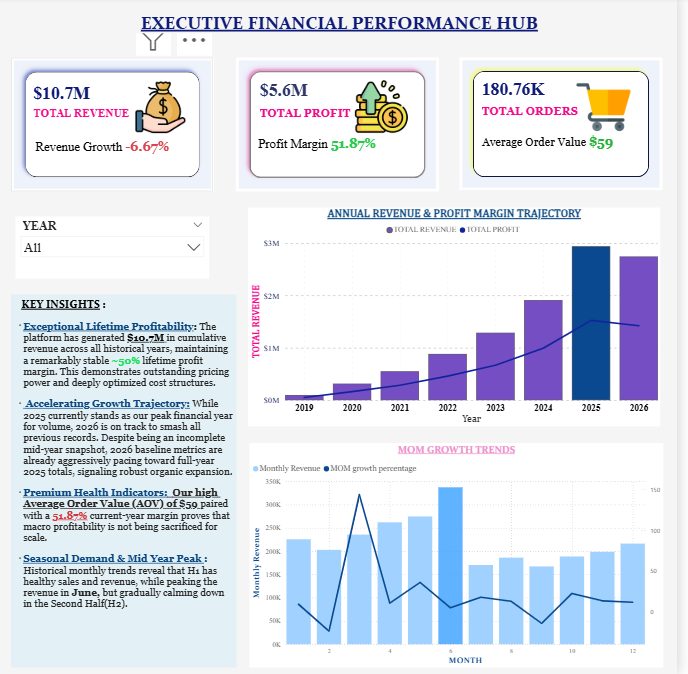

This screenshot's page, from the dashboard's own definition file:
{"tool":"powerbi","page":{"name":"Page 2","canvas":[1280,1280],"ordinal":0},"visuals":[{"type":"cardVisual","fields":{"Data":["base_orders (3).TOTAL REVENUE"]},"box":[22.5,115,382.5,252.5],"z":0},{"type":"cardVisual","fields":{"Data":["base_orders (3).TOTAL PROFIT"]},"box":[447.5,115,382.5,252.5],"z":1000},{"type":"image","box":[240,162.5,127.5,97.5],"z":2000},{"type":"image","box":[660,158.3,123.3,100],"z":3000},{"type":"cardVisual","fields":{"Data":["base_orders (3).TOTAL ORDERS"]},"box":[867.5,115,382.5,250],"z":4000},{"type":"image","box":[1062.5,157.5,152.5,102.5],"z":5000},{"type":"lineStackedColumnComboChart","title":"ANNUAL REVENUE & PROFIT MARGIN TRAJECTORY","fields":{"Category":["base_orders.order_year"],"Y":["base_orders (3).TOTAL REVENUE"],"Y2":["base_orders (3).TOTAL PROFIT"]},"box":[470,397.5,777.5,412.5],"z":6000},{"type":"slicer","fields":{"Values":["base_orders.order_year"]},"box":[32.5,415,365,117.5],"z":7000},{"type":"textbox","box":[23.3,563.3,425,703.3],"z":8000},{"type":"lineClusteredColumnComboChart","title":"MOM GROWTH TRENDS","fields":{"Category":["mom_growth_metrics (2).order_month"],"Y2":["Avg(mom_growth_metrics (2).mom_growth_percentage)"],"Y":["Sum(mom_growth_metrics (2).monthly_revenue)"]},"box":[471.7,843.3,780,423.3],"z":9000},{"type":"textbox","title":"EXECUTIVE FINANCIAL PERFORMANCE HUB","box":[93.3,28.3,1096.7,41.7],"z":10000}]}

Visuals, with their boxes in screenshot pixels (x1, y1, x2, y2), scaled from the page's 1280x1280 canvas onto the 688x674 screenshot:
cardVisual - base_orders (3).TOTAL REVENUE: [12, 61, 218, 194]
cardVisual - base_orders (3).TOTAL PROFIT: [241, 61, 446, 194]
image: [129, 86, 198, 137]
image: [355, 83, 421, 136]
cardVisual - base_orders (3).TOTAL ORDERS: [466, 61, 672, 192]
image: [571, 83, 653, 137]
"ANNUAL REVENUE & PROFIT MARGIN TRAJECTORY" lineStackedColumnComboChart: [253, 209, 671, 427]
slicer - base_orders.order_year: [17, 219, 214, 280]
textbox: [13, 297, 241, 667]
"MOM GROWTH TRENDS" lineClusteredColumnComboChart: [254, 444, 673, 667]
"EXECUTIVE FINANCIAL PERFORMANCE HUB" textbox: [50, 15, 640, 37]
